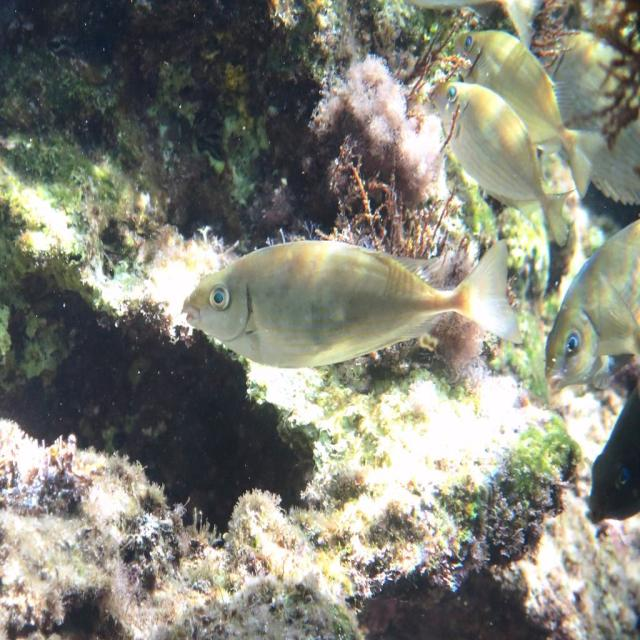Sokar Baligi: (164, 209, 536, 386)
